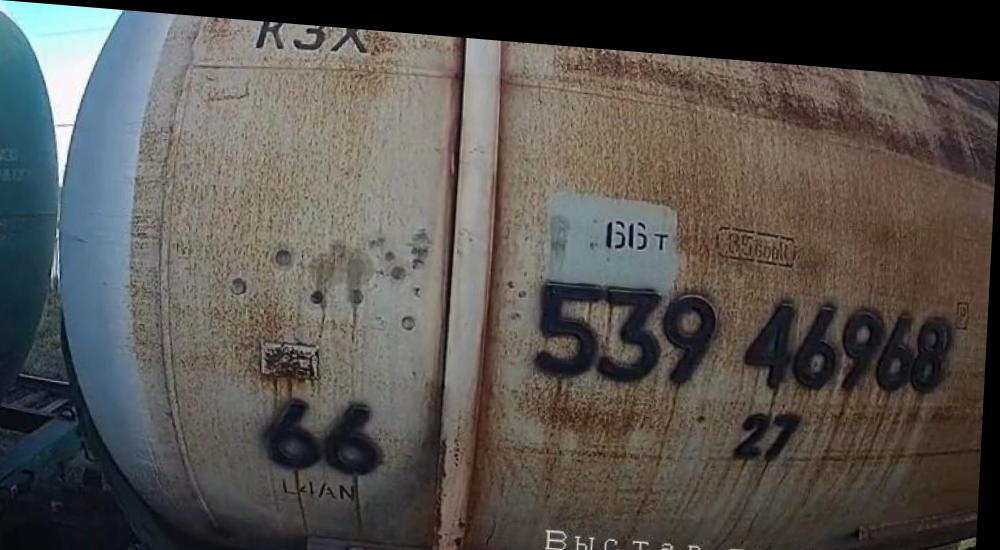Wagon-number: (532, 262, 957, 396)
